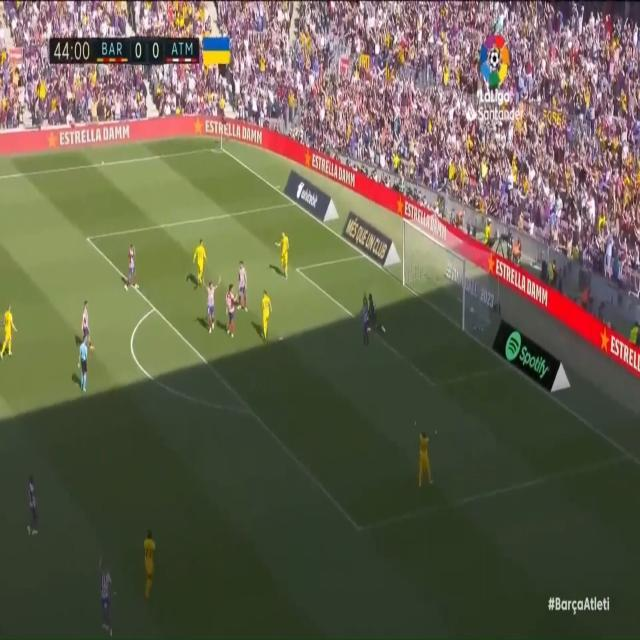ball: (470, 305, 474, 319)
goalkeeper: (367, 288, 387, 346)
player: (93, 559, 120, 640), (21, 473, 43, 542), (0, 291, 19, 368), (414, 423, 436, 488), (202, 270, 224, 333), (141, 529, 159, 603), (274, 228, 298, 278), (124, 242, 142, 300), (258, 287, 276, 342), (225, 280, 239, 343), (79, 299, 94, 345), (194, 237, 207, 283), (237, 256, 247, 313), (362, 289, 370, 345)
referee: (75, 331, 92, 394)
